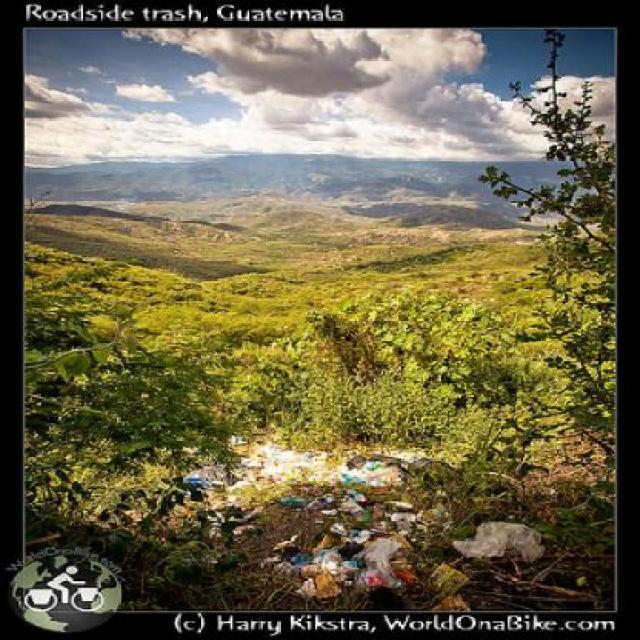garbage: (263, 442, 537, 610)
